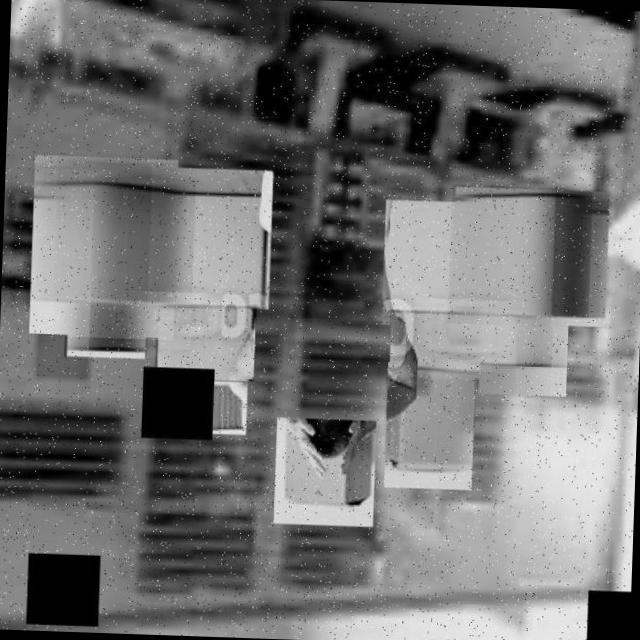box: (26, 151, 179, 340), (447, 185, 612, 328), (147, 164, 274, 310), (378, 196, 482, 329), (382, 360, 476, 490), (268, 414, 376, 527), (474, 306, 568, 396), (154, 300, 256, 381), (386, 312, 492, 379), (156, 377, 248, 435), (63, 296, 148, 358)
